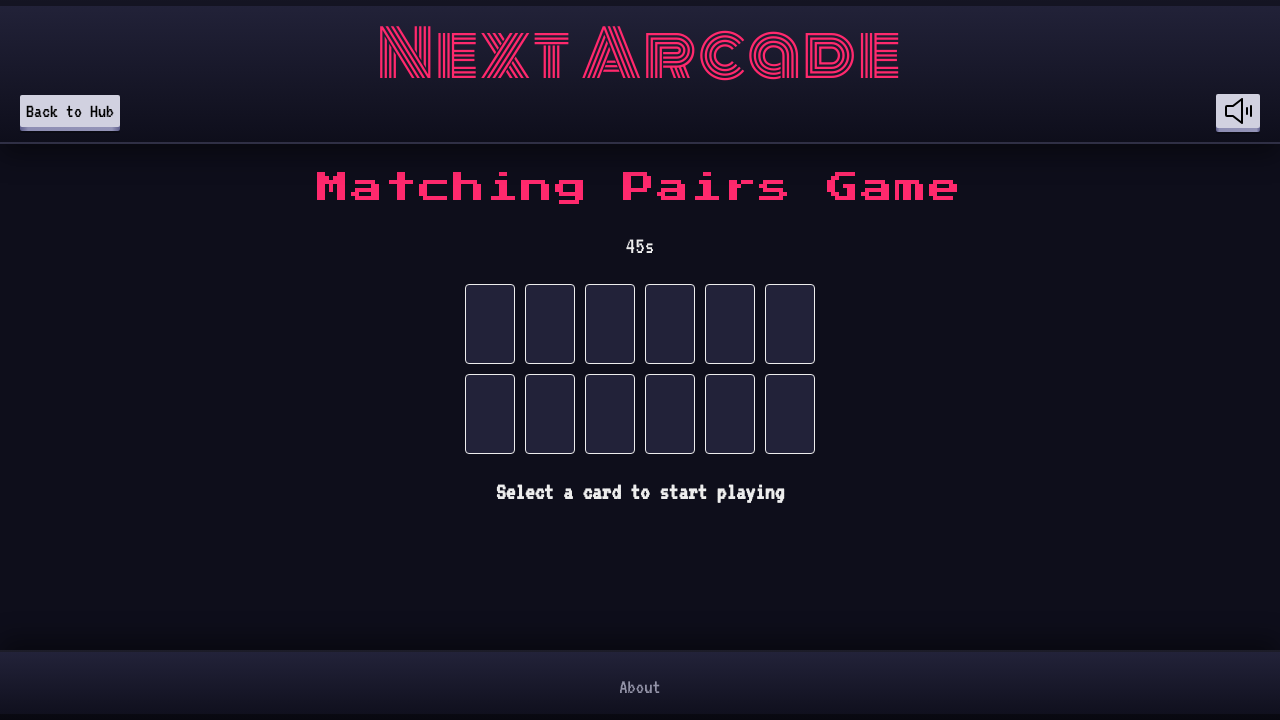
Test case: Matching Pairs Game › can match two identical cards
Note: Click first card
Click the 1st element with test id "mp-card": coordinates (490, 324) [465,284,515,364]
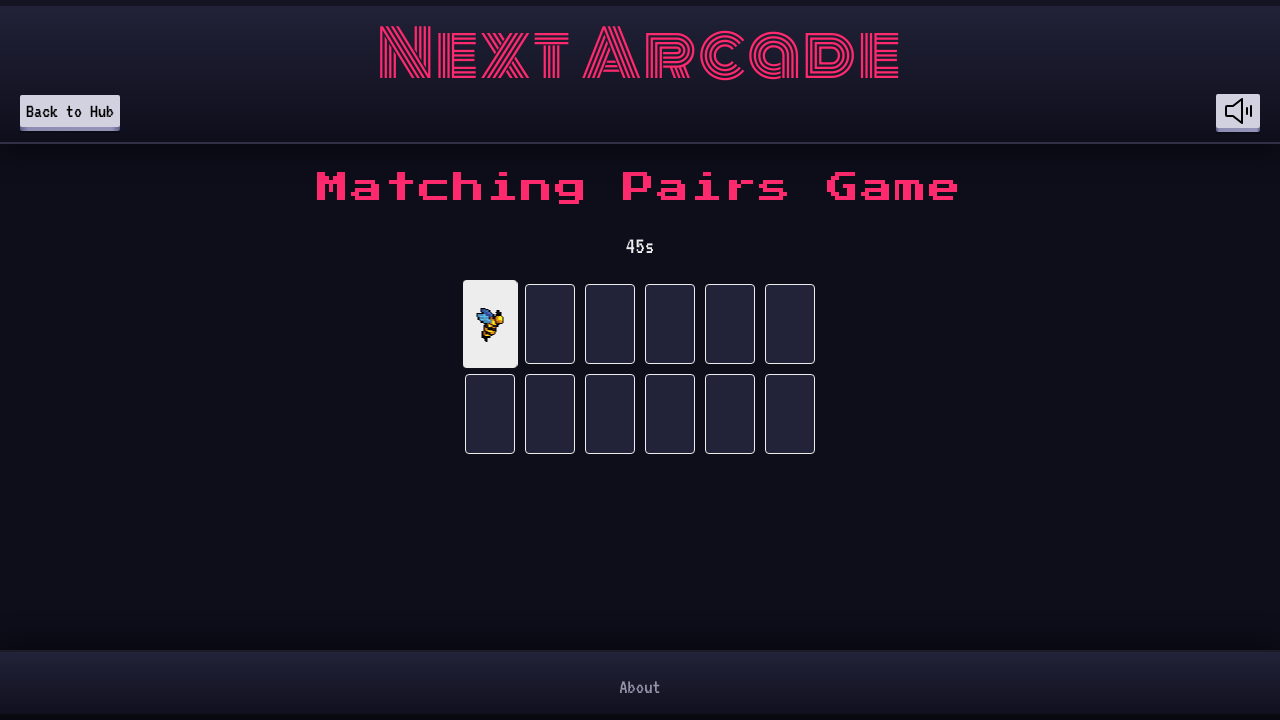
Click the 2nd element with test id "mp-card": coordinates (550, 324) [525,284,575,364]
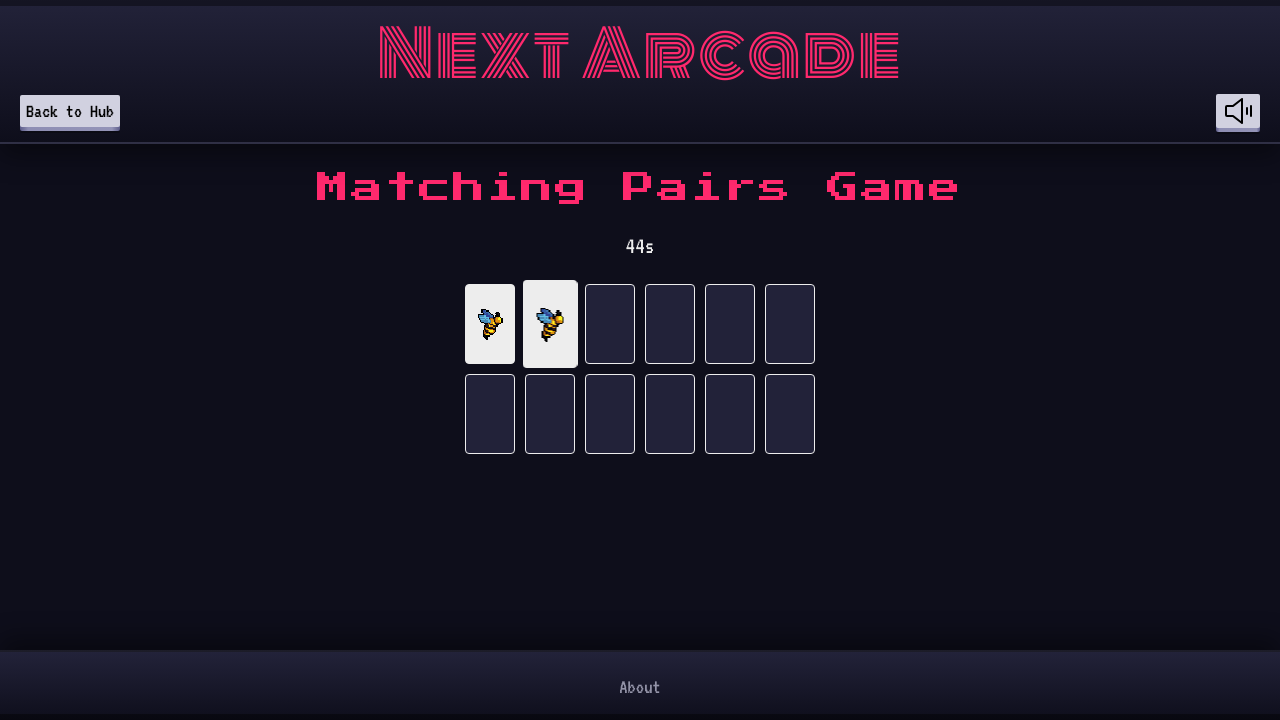
Check: the number of pictures is 2, box [470,304,510,344]; [528,302,572,346]
